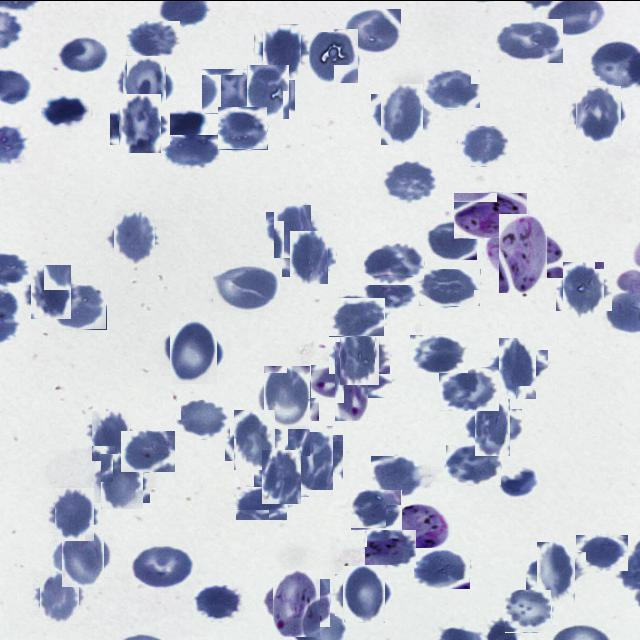difficult: (386, 504, 449, 556)
red blood cell: (323, 352, 380, 409), (213, 265, 280, 311), (165, 324, 221, 379), (284, 430, 338, 484), (260, 370, 314, 424), (497, 18, 563, 62), (131, 545, 195, 589), (56, 528, 108, 582), (119, 59, 171, 111), (376, 88, 428, 140), (308, 29, 360, 81), (343, 8, 401, 54), (439, 366, 499, 410), (202, 68, 260, 113), (114, 98, 166, 148), (364, 242, 425, 284), (573, 88, 624, 138), (334, 328, 385, 378), (338, 568, 388, 618), (492, 342, 542, 392), (230, 414, 280, 464), (52, 284, 107, 329), (97, 456, 146, 506), (531, 546, 581, 595), (243, 66, 292, 116), (560, 264, 608, 314), (383, 159, 438, 202), (419, 268, 481, 306), (121, 430, 176, 472), (110, 212, 158, 260), (26, 267, 74, 315), (446, 444, 502, 485), (414, 547, 470, 588), (258, 27, 306, 74), (469, 402, 516, 450), (329, 296, 385, 336), (424, 69, 481, 108), (258, 453, 305, 500), (410, 334, 468, 372), (176, 399, 231, 439), (218, 106, 268, 149), (371, 455, 423, 496), (36, 573, 82, 619), (270, 207, 316, 253), (52, 490, 98, 536), (286, 234, 332, 280), (126, 20, 180, 59), (458, 125, 509, 166), (88, 412, 134, 457), (351, 488, 402, 528), (425, 220, 477, 259), (505, 589, 552, 632), (162, 134, 220, 168), (41, 94, 92, 131), (576, 534, 628, 570), (365, 529, 417, 565), (194, 584, 244, 621), (58, 35, 108, 71), (236, 486, 288, 520), (365, 275, 414, 308)
ring: (268, 574, 326, 630)
trophozoite: (492, 220, 556, 284), (454, 192, 528, 238)
